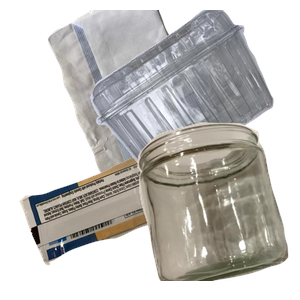glass: (135, 120, 300, 300)
paper: (45, 10, 251, 190)
plastic: (88, 10, 300, 180)
trash: (17, 123, 257, 300)
